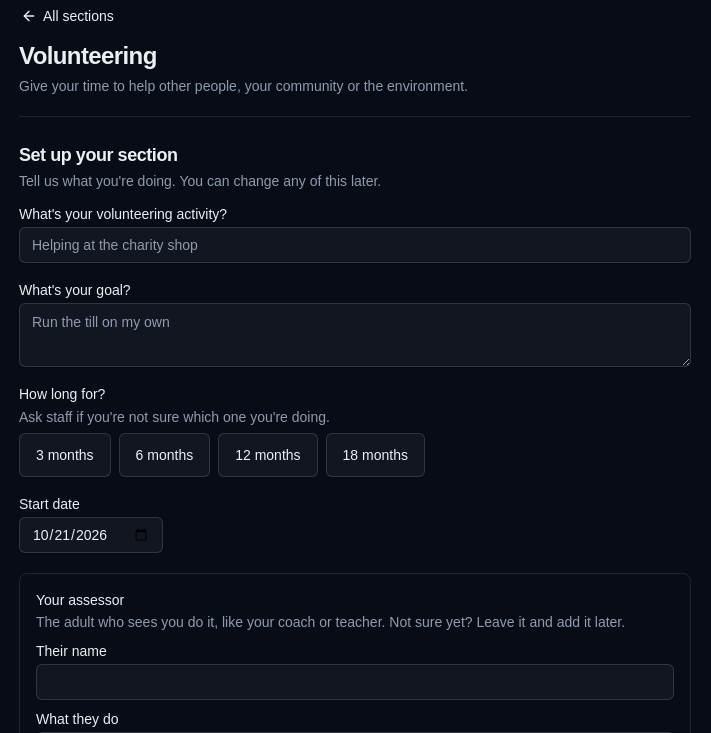
Test: setting a section up › shows the API's reason when the plan is refused
Type "Shop" into the field labelled "What's your volunteering activity?" at (355, 245), box [19,227,691,263]
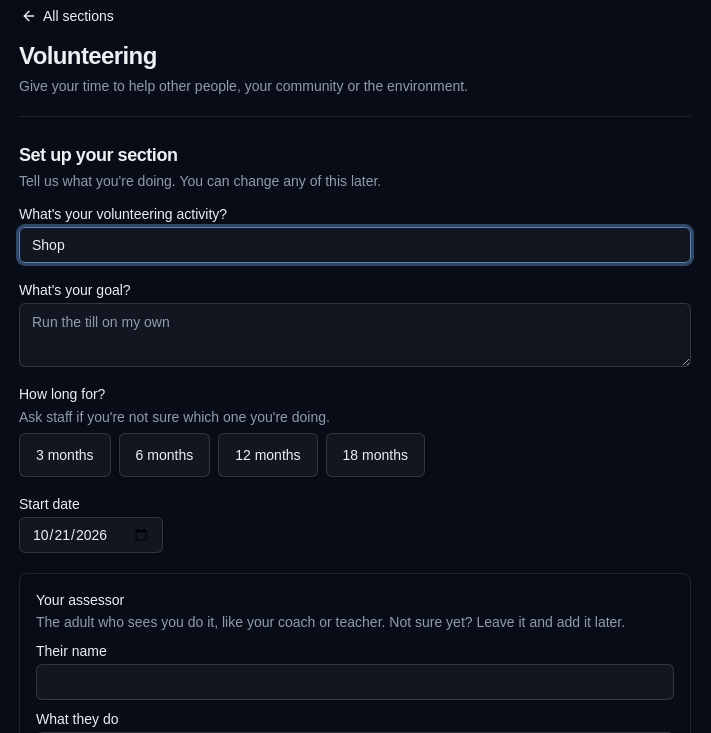
Type "Till" into the text box labelled "What's your goal?" at (355, 335), box [19,303,691,367]
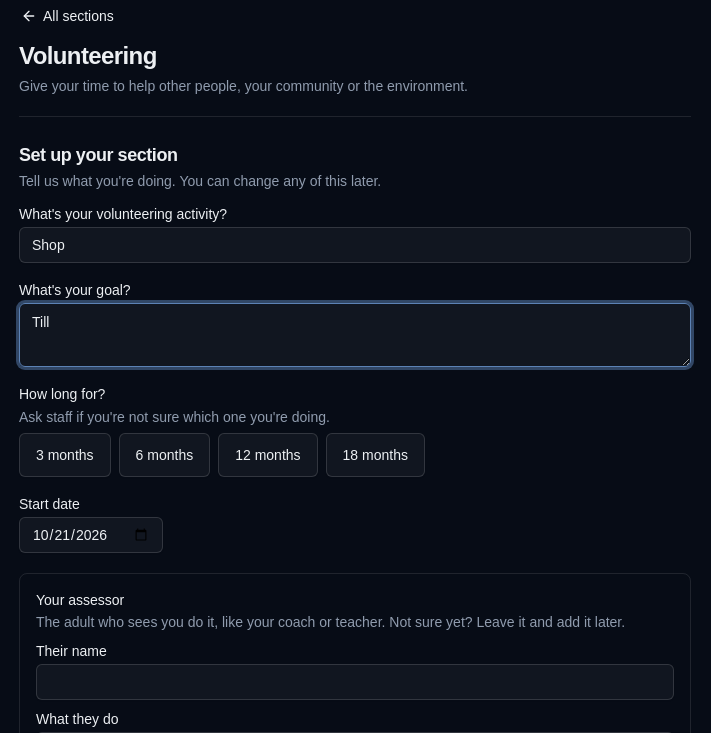
Click the button "3 months" at (65, 455), box [19,433,111,477]
(page scrolled)
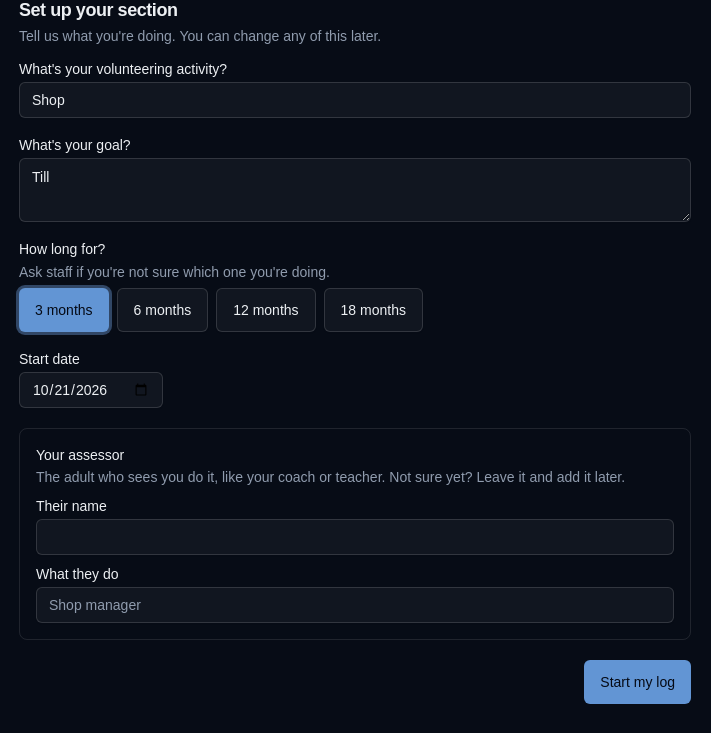
Click the button "Start my log" at (638, 682), box [584,660,691,704]
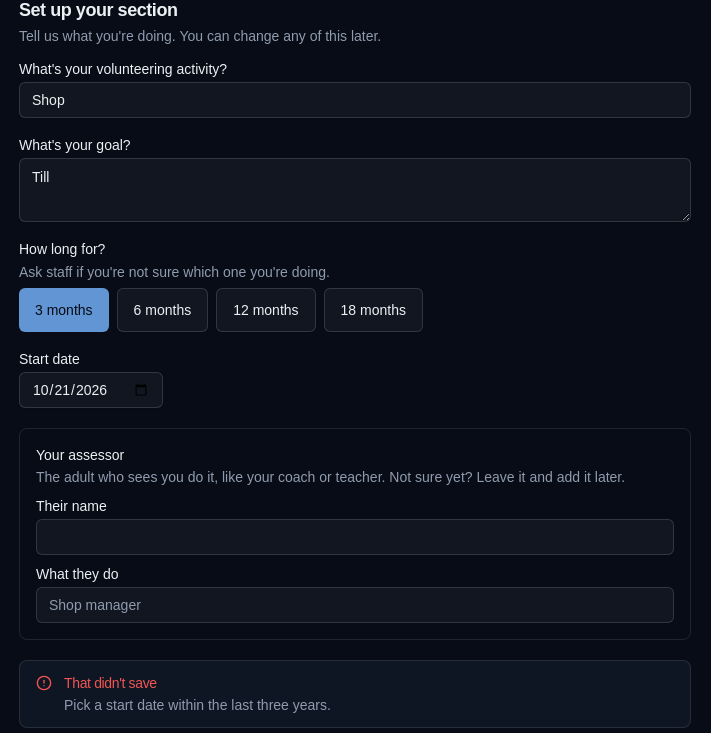
Now the text "Pick a start date within the last three years." is shown, box [64,697,331,713]
